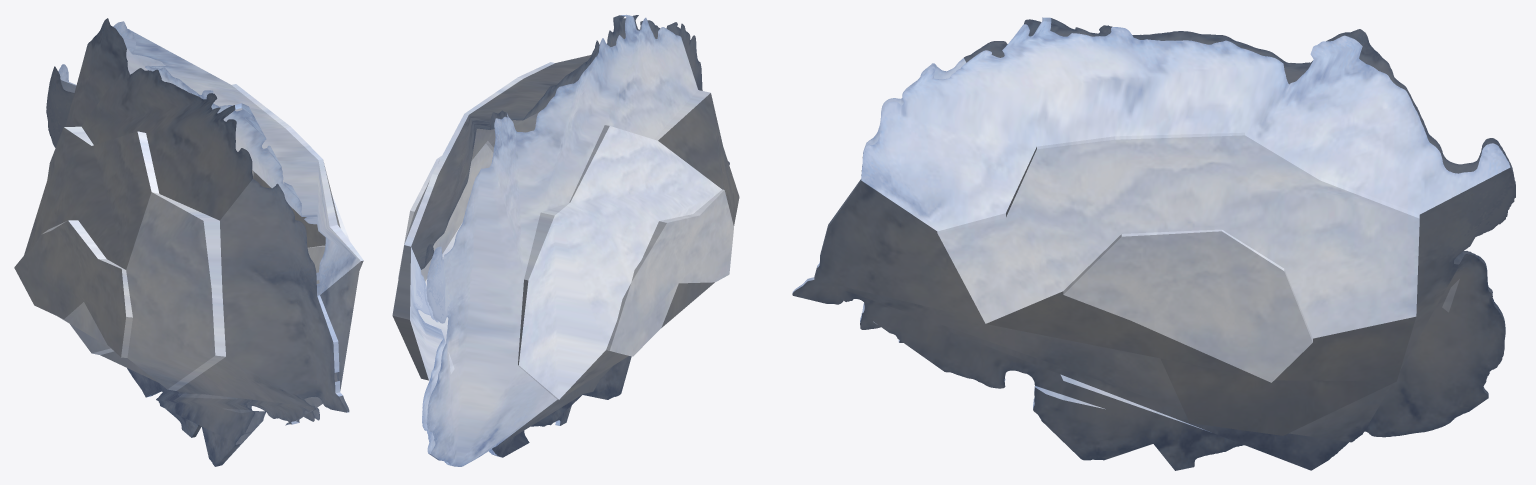
Rendered from cloud1.fbx.
The picture shows the model from 3 angles, left to right: view 1: azimuth 30°, elevation 25°; view 2: azimuth 150°, elevation 25°; view 3: azimuth 270°, elevation 25°; orthographic projection. The views are drawn at different scales.
Parts seen in each view (by area): view 1: cloud; view 2: cloud; view 3: cloud.
Part boxes in pixels (x1,y1,x2,y2): cloud: (14, 18, 363, 466); cloud: (392, 14, 739, 466); cloud: (792, 17, 1515, 470).
Size of the model in its own units: 53.28 by 83.57 by 126.
Materials: 1 (1 with a texture image).
